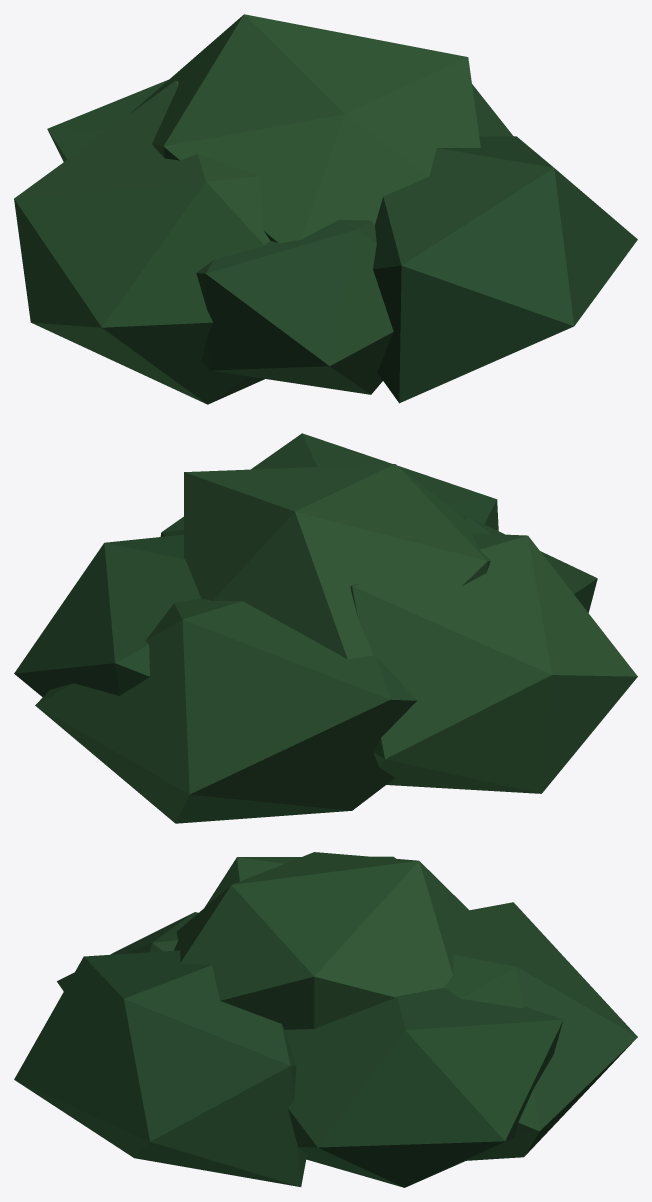
The model's file is mugo.glb.
3 renders of one model, top to bottom at view 1: azimuth 30°, elevation 25°; view 2: azimuth 150°, elevation 25°; view 3: azimuth 270°, elevation 25°, orthographic. The views are drawn at different scales.
Parts seen in each view (by area): view 1: mugo; view 2: mugo; view 3: mugo.
Part boxes in pixels (x1=…): mugo: x1=14, y1=14, x2=637, y2=404; mugo: x1=14, y1=433, x2=637, y2=823; mugo: x1=14, y1=852, x2=637, y2=1187.
Size of the model in its own units: 3.44 by 1.92 by 4.05.
